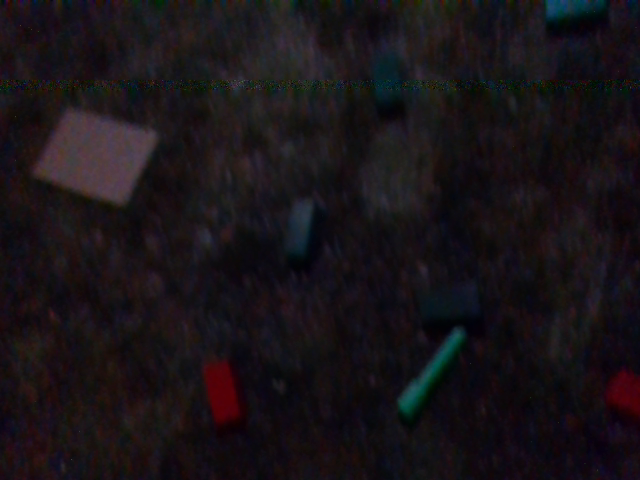Probe: (393, 326, 470, 415)
